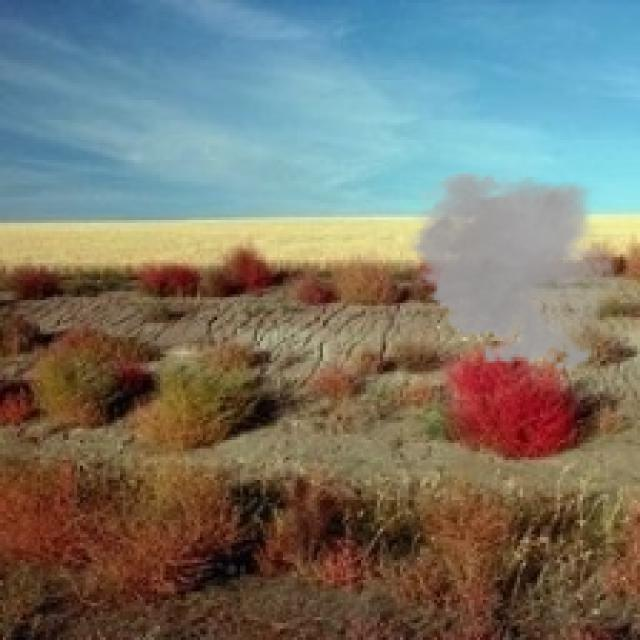Smoke: (401, 162, 628, 378)
